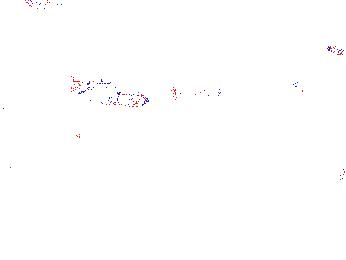X-ray fish: (277, 35, 320, 58), (284, 139, 319, 167)
glassfish: (195, 125, 295, 186), (1, 83, 72, 142)
red belly glassfish: (326, 41, 346, 57)
redtail glassfish: (68, 72, 150, 109), (169, 77, 223, 106), (291, 67, 346, 92)
